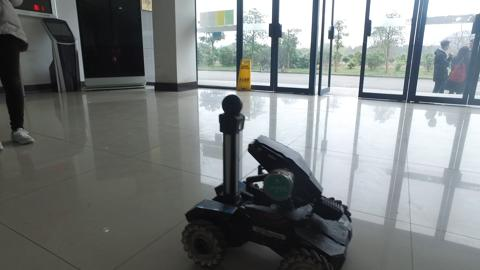chariot: (178, 90, 359, 270)
